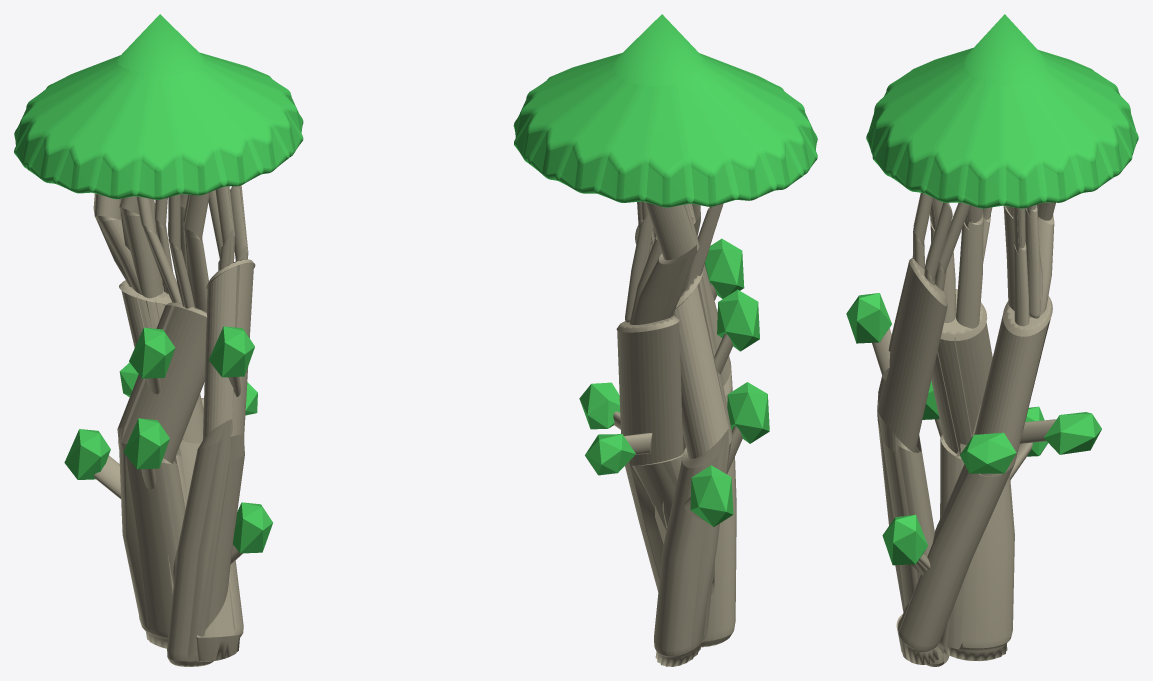
File: redone tree.fbx
3 renders of one model, left to right at view 1: azimuth 30°, elevation 25°; view 2: azimuth 150°, elevation 25°; view 3: azimuth 270°, elevation 25°, orthographic. The views are drawn at different scales.
Visible parts, largest first — view 1: ttop3; view 2: ttop3; view 3: ttop3.
Boxes of the visible parts, x1,y1,x2,y2 form: ttop3: (14,14,303,666); ttop3: (513,14,817,666); ttop3: (846,14,1138,666).
Size of the model in its own units: 14.42 by 23.62 by 9.69.
